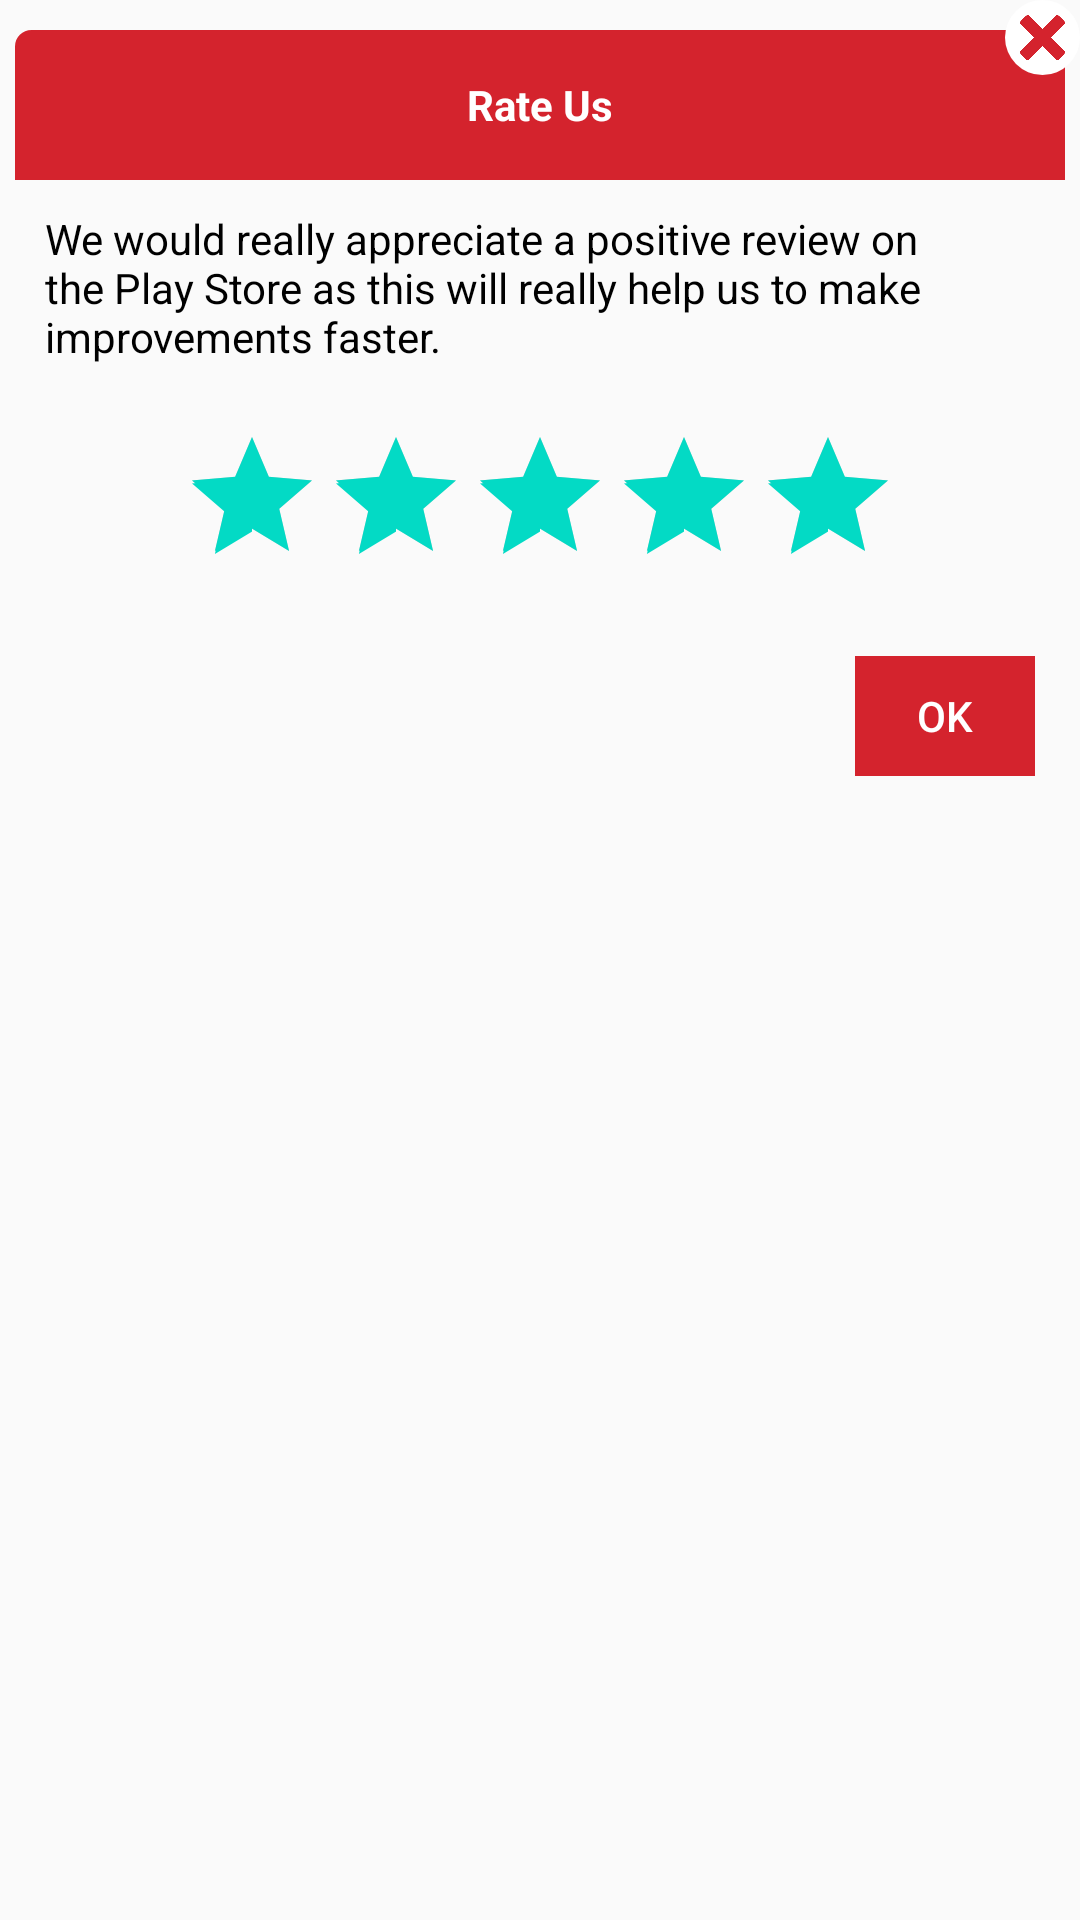

Named icons in this screenshot (1080*1920) and their bounding boxes, (x1, y1, x2, y2):
close dialog: (1005, 0, 1080, 75)
